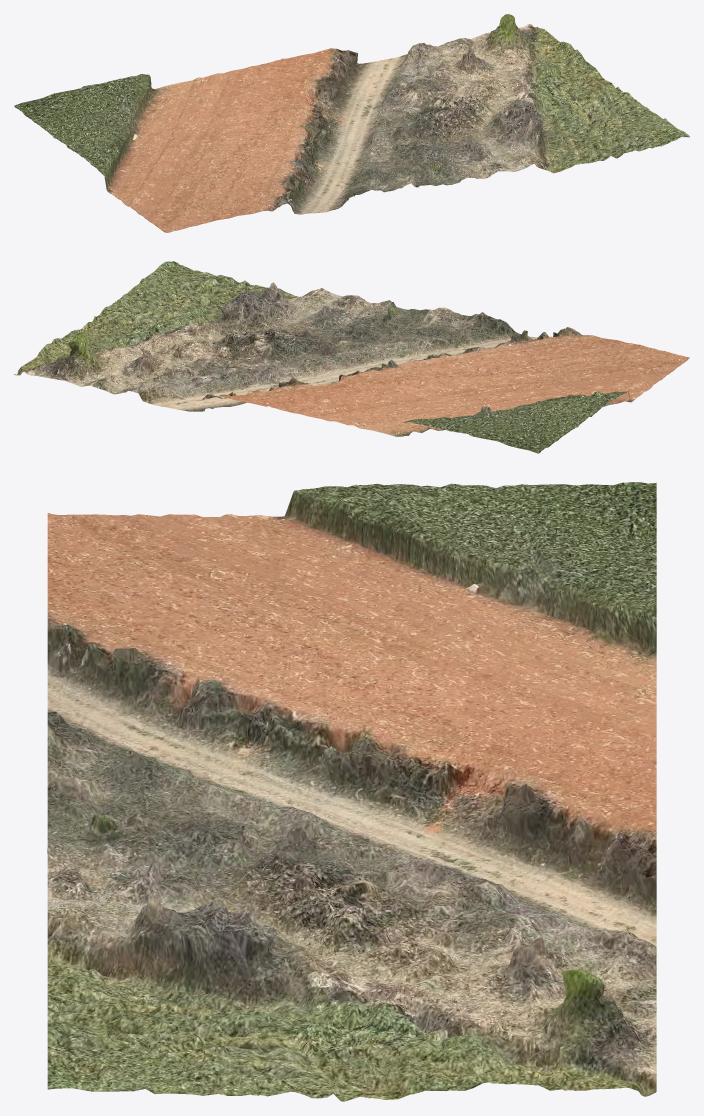
The model's file is BlockYAYB_L20_9.glb.
3 views of the same model, one above another, from view 1: azimuth 30°, elevation 25°; view 2: azimuth 150°, elevation 25°; view 3: azimuth 270°, elevation 25° (orthographic). The views are drawn at different scales.
Parts seen in each view (by area): view 1: rtc; view 2: rtc; view 3: rtc.
Part boxes in pixels (x1,y1,x2,y2): rtc: (14, 14, 689, 232); rtc: (14, 261, 689, 453); rtc: (47, 482, 656, 1101).
Size of the model in its own units: 32.95 by 3.7 by 16.61.
Materials: 4 (4 with a texture image).
